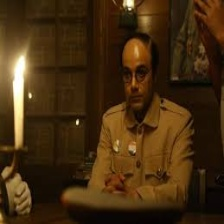fire: (14, 56, 24, 79)
